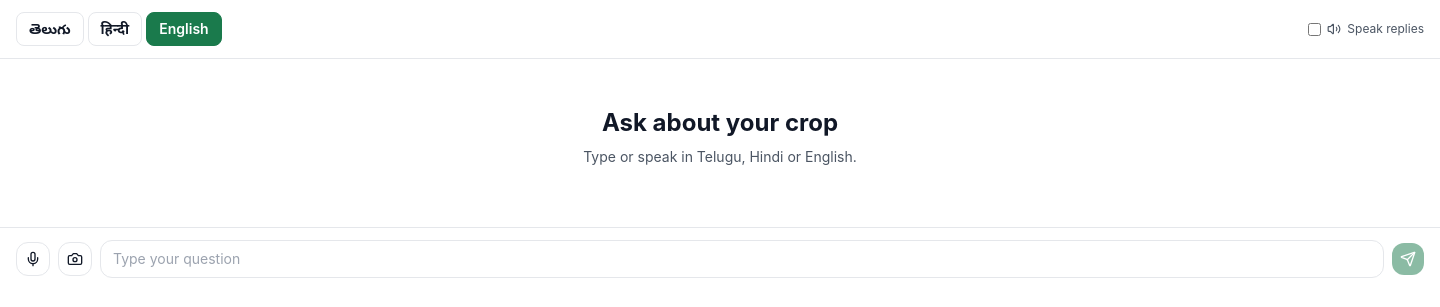
Test: Offline question queue › keeps a question typed offline and sends it when back online
Later steps or results of the test are not shown.
Step 1. Type "Water is standing in my field" into the field → (742, 259), box [100,240,1384,278]
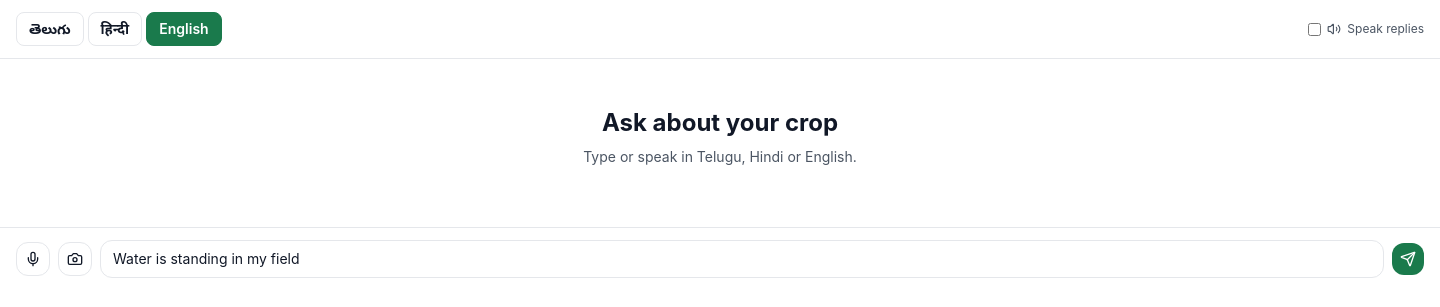
Step 2. Submit the form, box [0,227,1439,290]
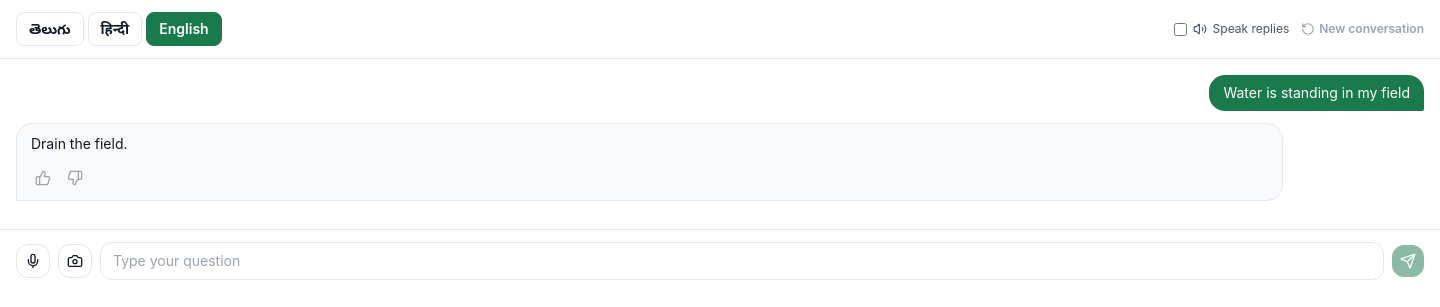
Expected: the text "Drain the field." is shown, [31,135,128,152]
